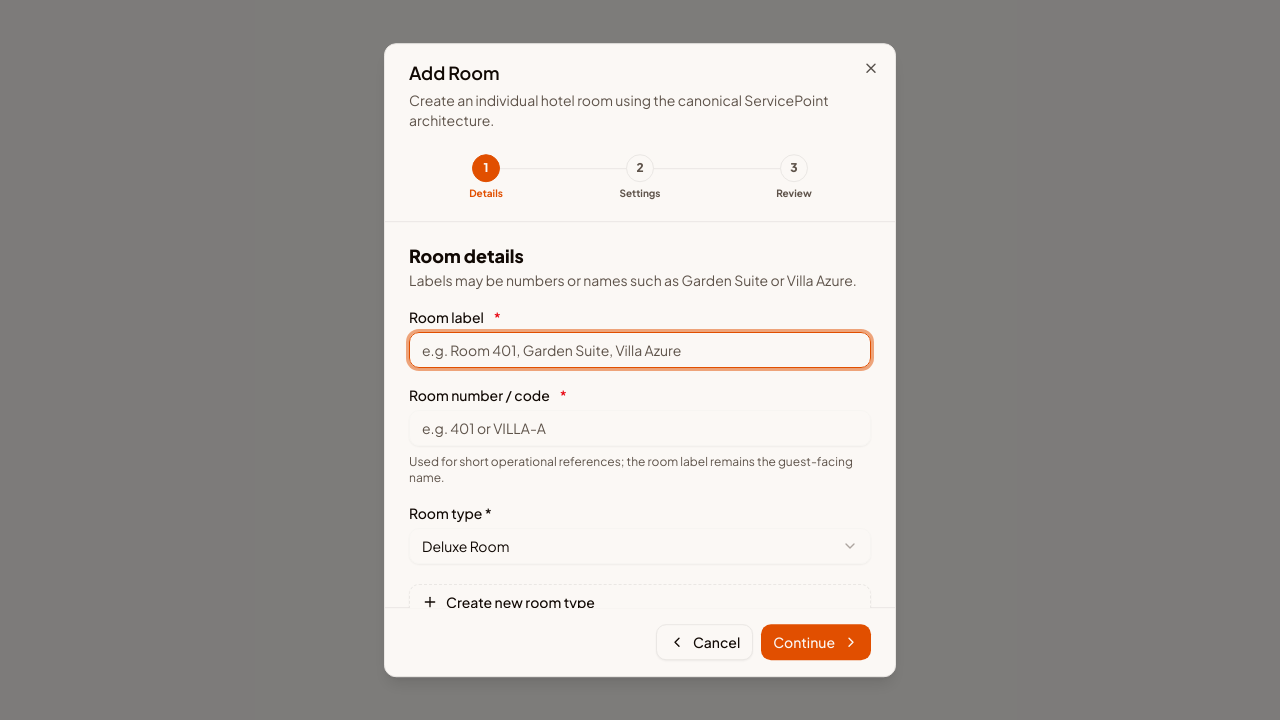
it: HotelRoomWizard › opens on Details with the selected Room Type default and does not validate Settings yet
Expected: the heading "Room details" is shown, 409,244 -> 524,267
Expected: the dropdown named "Select Room Type" reads "Deluxe Room", 409,528 -> 871,564
Step 1. Type "Room 402" into the field labelled "Room label" → {"x": 640, "y": 350}, box 409,332 -> 871,368
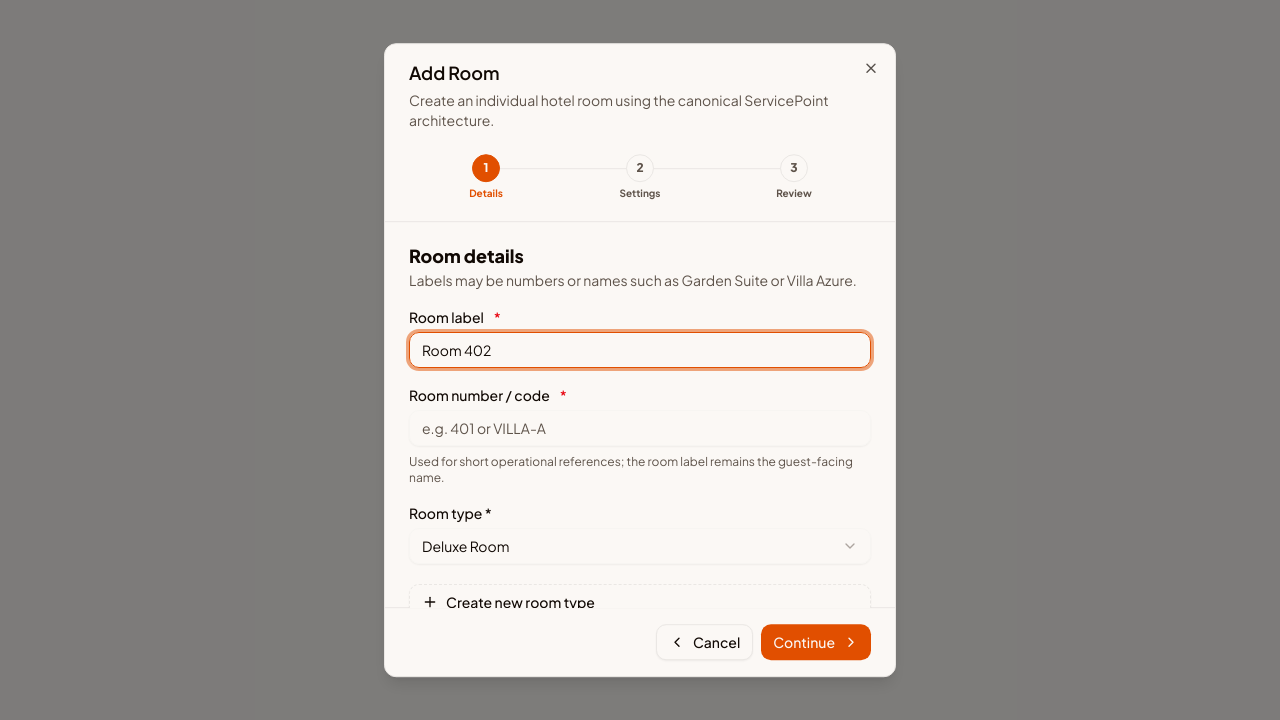
Step 2. Type "402" into the field labelled "Room number / code" → {"x": 640, "y": 428}, box 409,410 -> 871,446
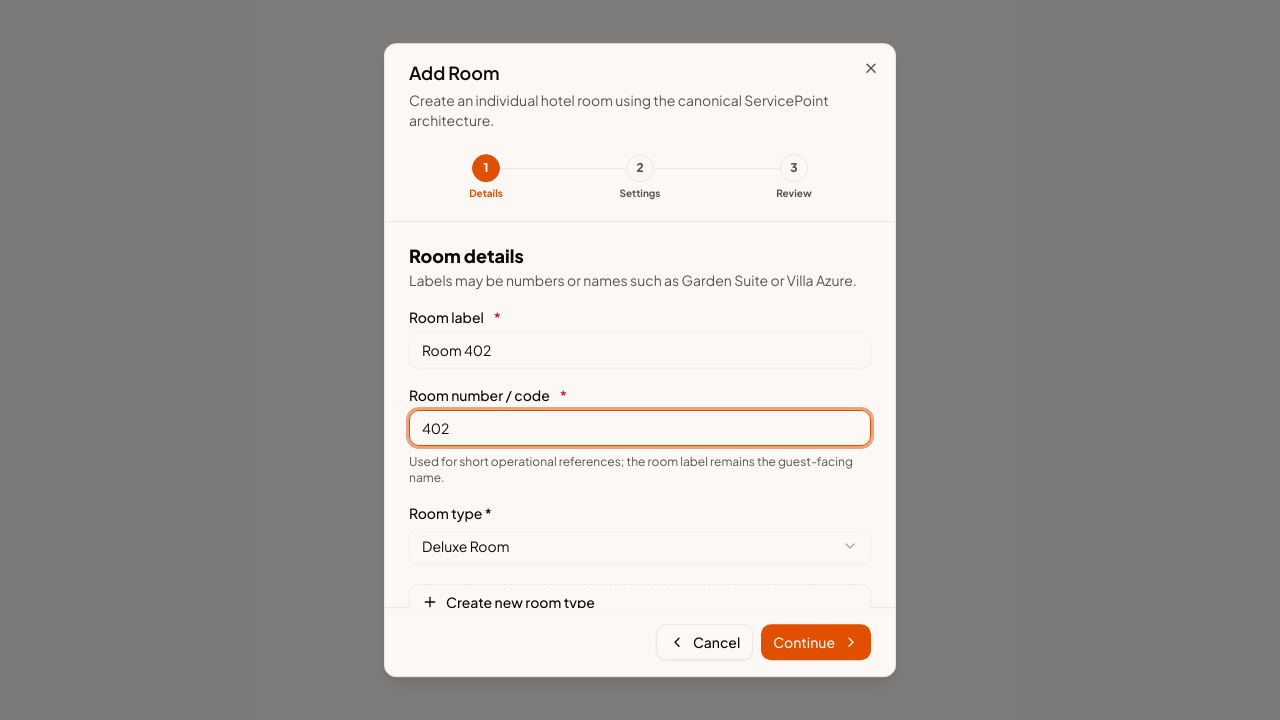
Step 3. Click the button "Continue" → {"x": 816, "y": 642}, box 761,624 -> 871,660
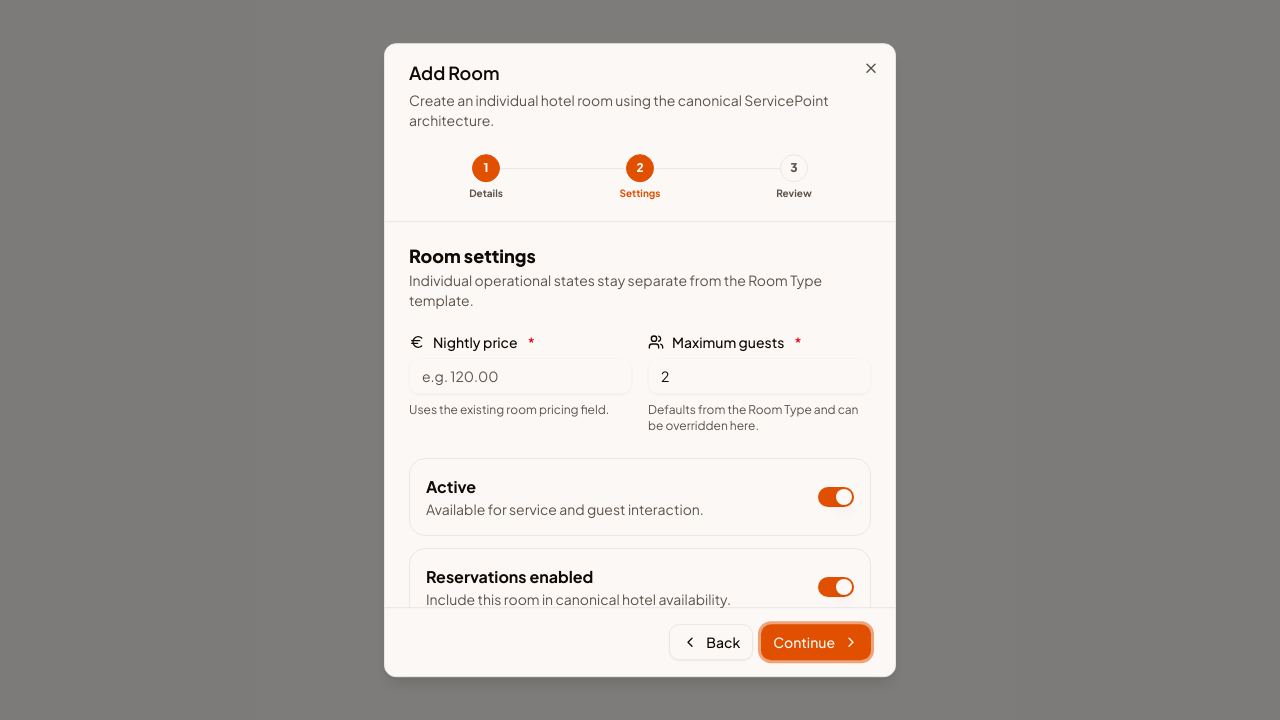
Expected: the heading "Room settings" is shown, 409,244 -> 536,267
Expected: the number field labelled "Maximum guests" holds "2", 648,358 -> 871,394
